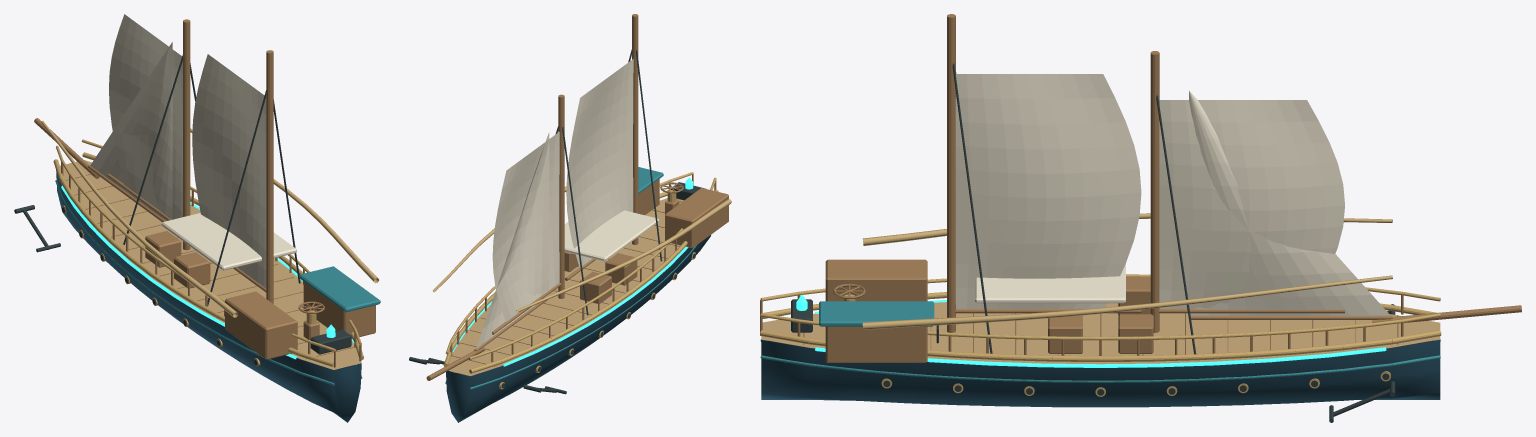
The model's file is premium_imperial_yacht.glb.
3 renders of one model, left to right at view 1: azimuth 30°, elevation 25°; view 2: azimuth 150°, elevation 25°; view 3: azimuth 270°, elevation 25°, orthographic. The views are drawn at different scales.
Parts seen in each view (by area): view 1: premium_imperial_yacht; view 2: premium_imperial_yacht; view 3: premium_imperial_yacht.
Boxes of the visible parts, box(x1,y1,x2,y2) form: premium_imperial_yacht: box(14, 14, 380, 422); premium_imperial_yacht: box(409, 14, 731, 422); premium_imperial_yacht: box(760, 14, 1521, 422).
Bounding box in the file's own units: 4.56 × 8.43 × 15.15.
